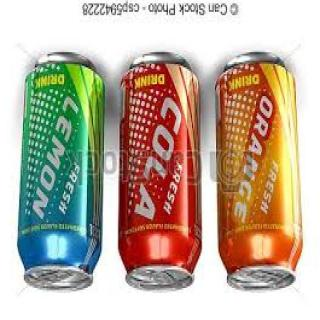Anorganik: (214, 49, 306, 294), (117, 51, 206, 297), (18, 49, 106, 294)
